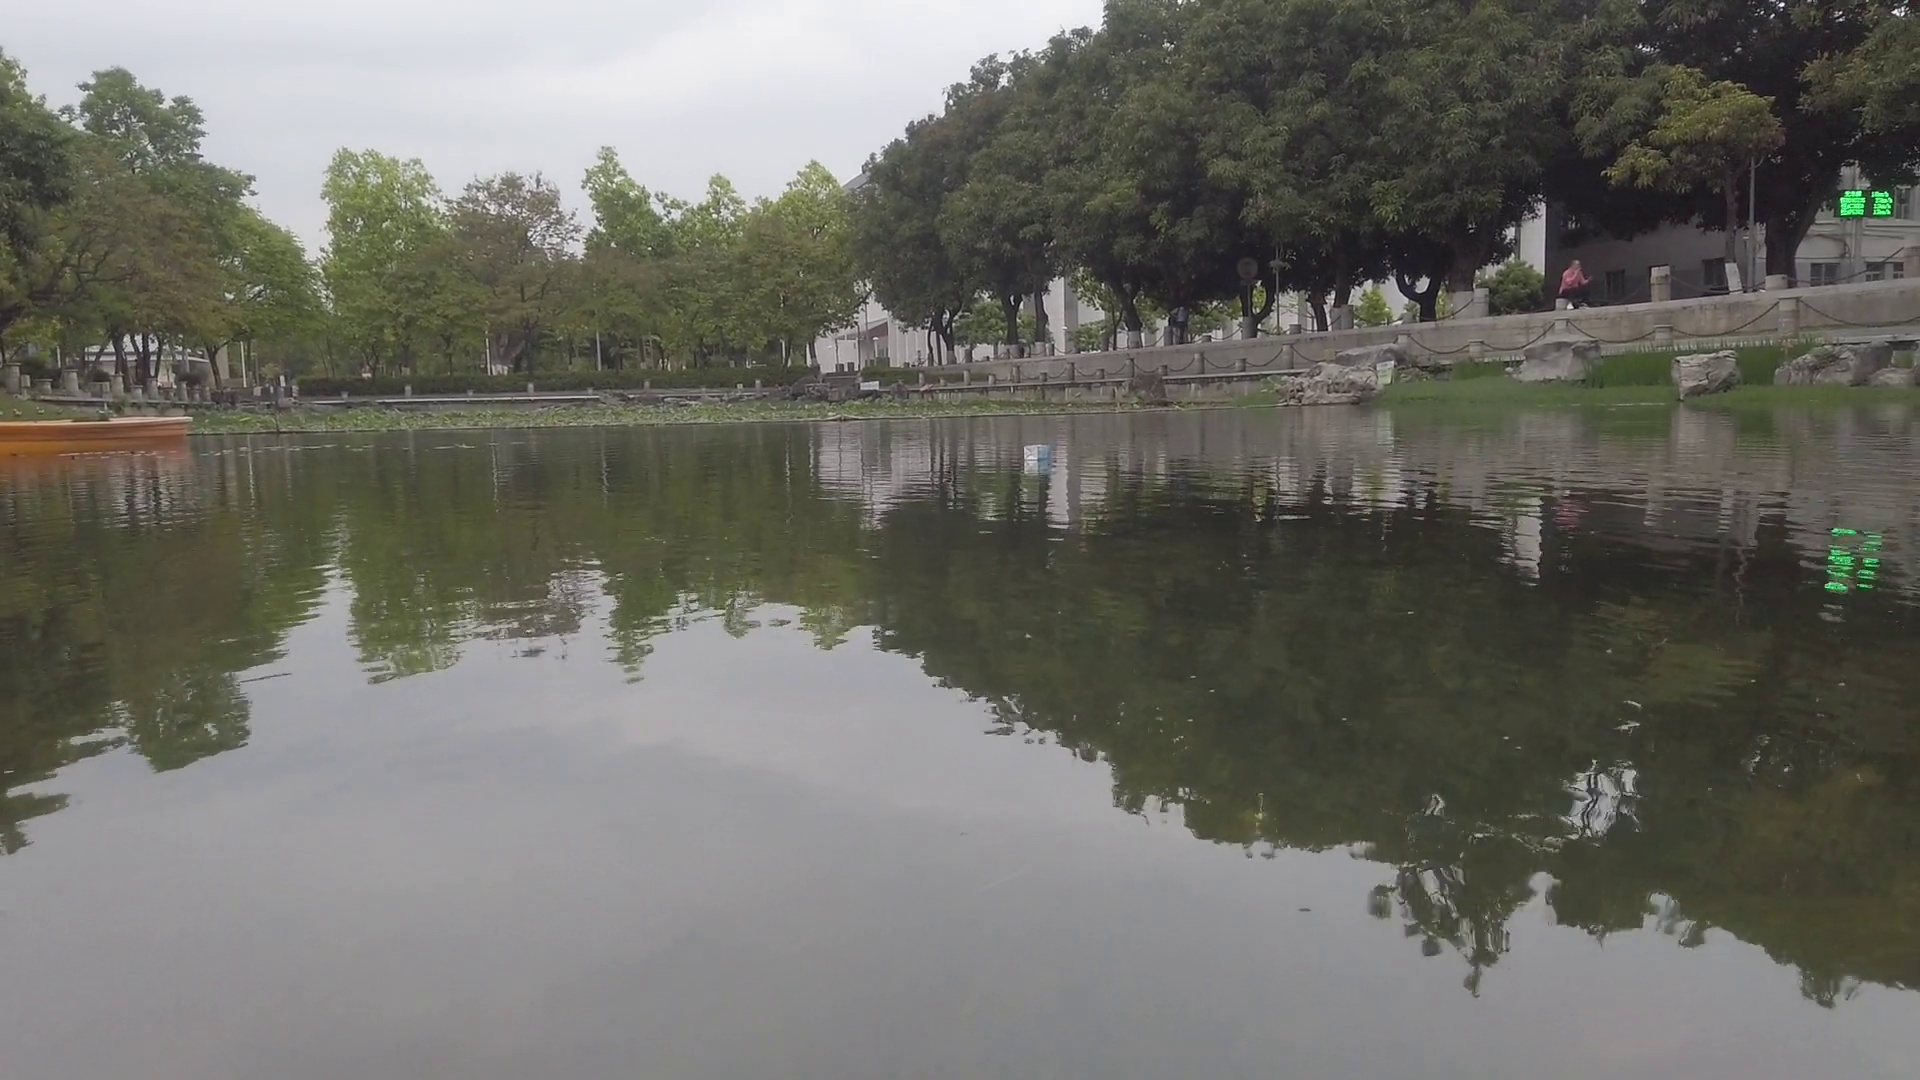carton: (1022, 444, 1052, 459)
